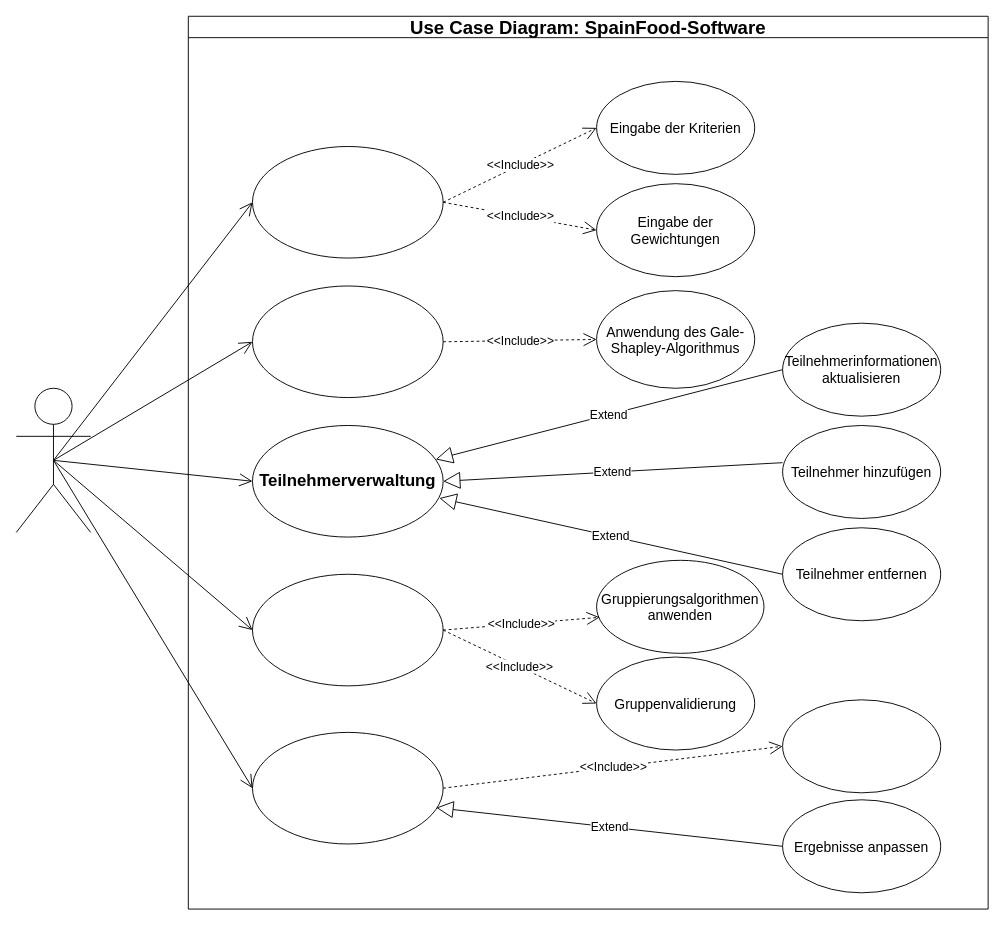
This 1004x925 diagram has some shape labels left out. Each missing label, with the centre of its shape:
"Ergebnisse anzeigen" goes at [861,746].
"Erzeugung von Gruppen" goes at [347,629].
"Erzeugung von Paaren" goes at [347,341].
"Konfiguration der Algorithmen" goes at [347,202].
"User" goes at [53,459].
"Überprüfung der Ergebnisse" goes at [347,787].
